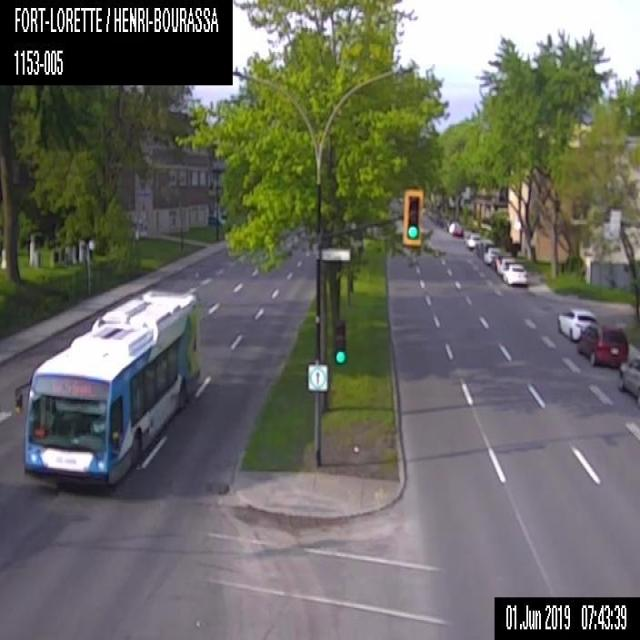bus: (12, 289, 204, 494)
vehicle: (578, 322, 628, 363), (557, 306, 596, 338), (619, 353, 639, 404), (501, 262, 528, 286), (494, 252, 516, 274), (474, 238, 493, 259), (483, 246, 500, 265), (464, 231, 480, 248), (447, 220, 458, 233), (452, 223, 463, 234)
